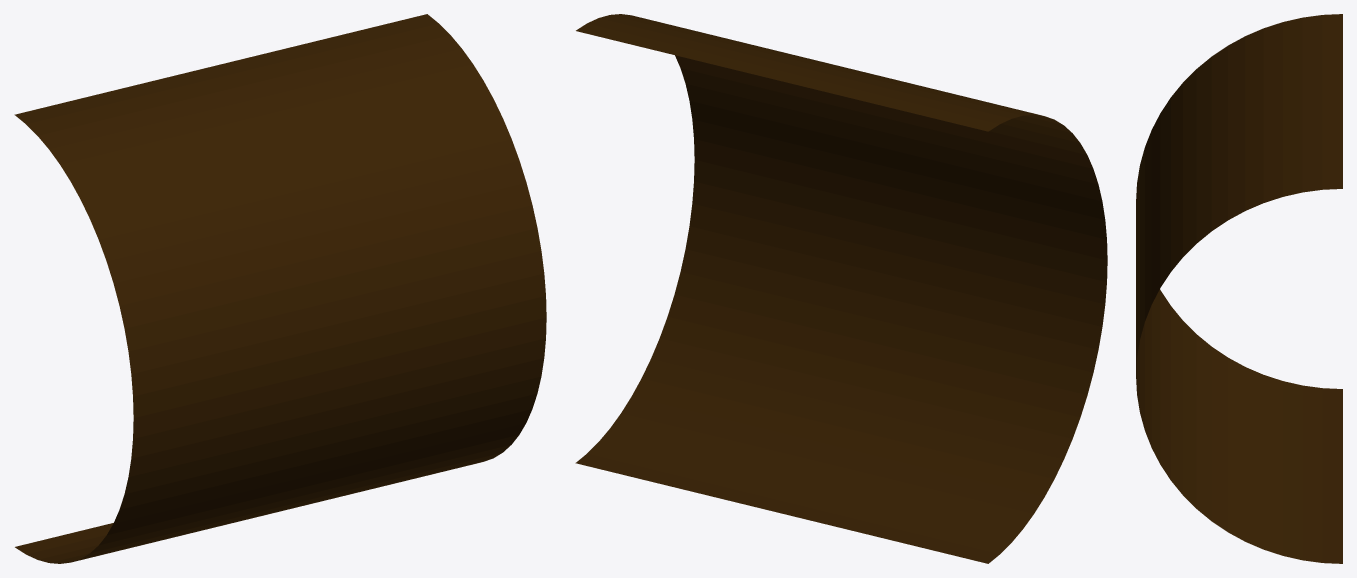
Rendered from half_pipe.glb.
3 views of the same model, side by side, from view 1: azimuth 30°, elevation 25°; view 2: azimuth 150°, elevation 25°; view 3: azimuth 270°, elevation 25° (orthographic). The views are drawn at different scales.
Parts seen in each view (by area): view 1: Cylinder.007; view 2: Cylinder.007; view 3: Cylinder.007.
Part boxes in pixels (x1,y1,x2,y2): Cylinder.007: [14, 14, 546, 563]; Cylinder.007: [575, 14, 1107, 563]; Cylinder.007: [1136, 14, 1342, 563].
Bounding box in the file's own units: 2 × 2 × 1.
